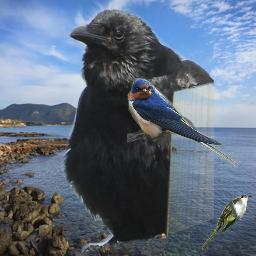Crow: (58, 7, 214, 253)
Cuckoo: (201, 194, 252, 251)
Swallow: (127, 78, 239, 167)
